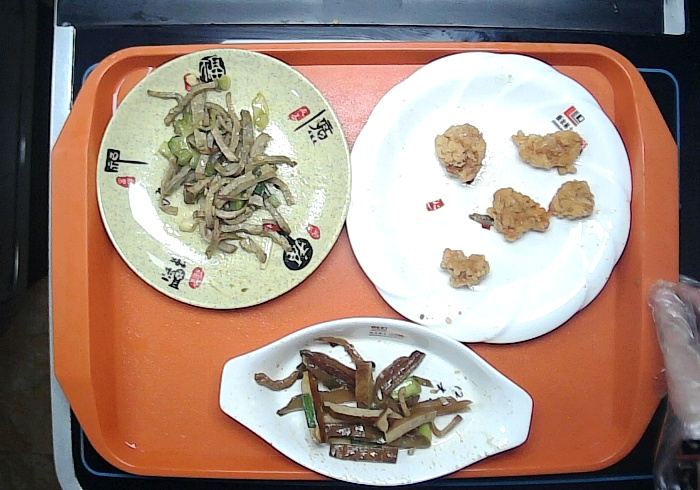NLDX-Bai_Zhe_Yuan_Pan: (342, 44, 637, 344)
NLDX-Fu_Zi_Yuan_Pan: (94, 45, 354, 312)
NLDX-Yu_Pan: (217, 315, 534, 490)
